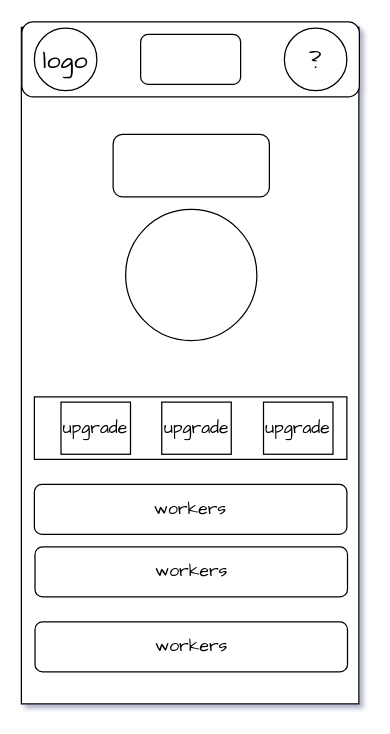
Image size: 390x734. Some labels were removed from this diagram. Here are the shapes that lost their labels. From the top down, the box of each, then its label:
(139, 33, 241, 84): Choc'n clic
(112, 133, 269, 197): compteurs
(124, 208, 257, 341): choco
